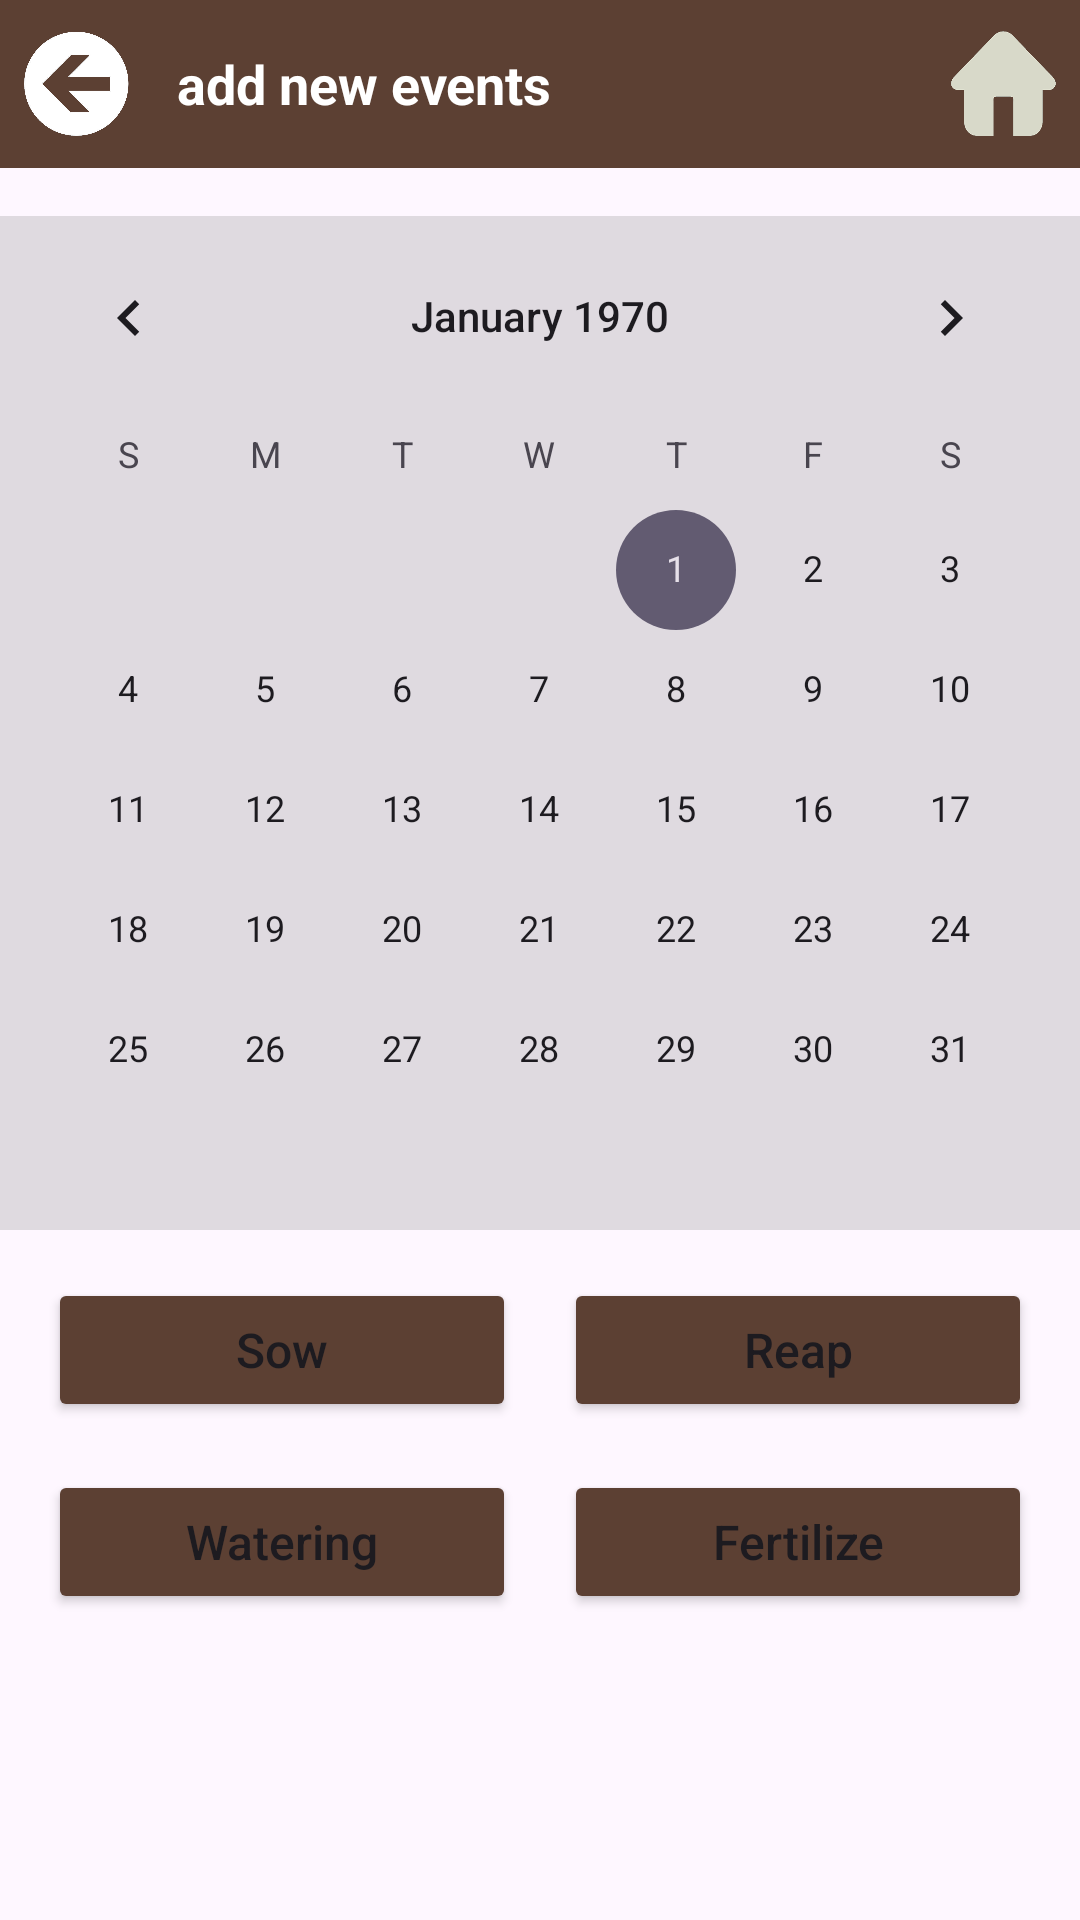

Named icons in this screenshot (1080×1920) and their bounding boxes, {"left": x1, "top": y1, "right": x2, "bottom": y2}:
Back: {"left": 24, "top": 32, "right": 129, "bottom": 136}
